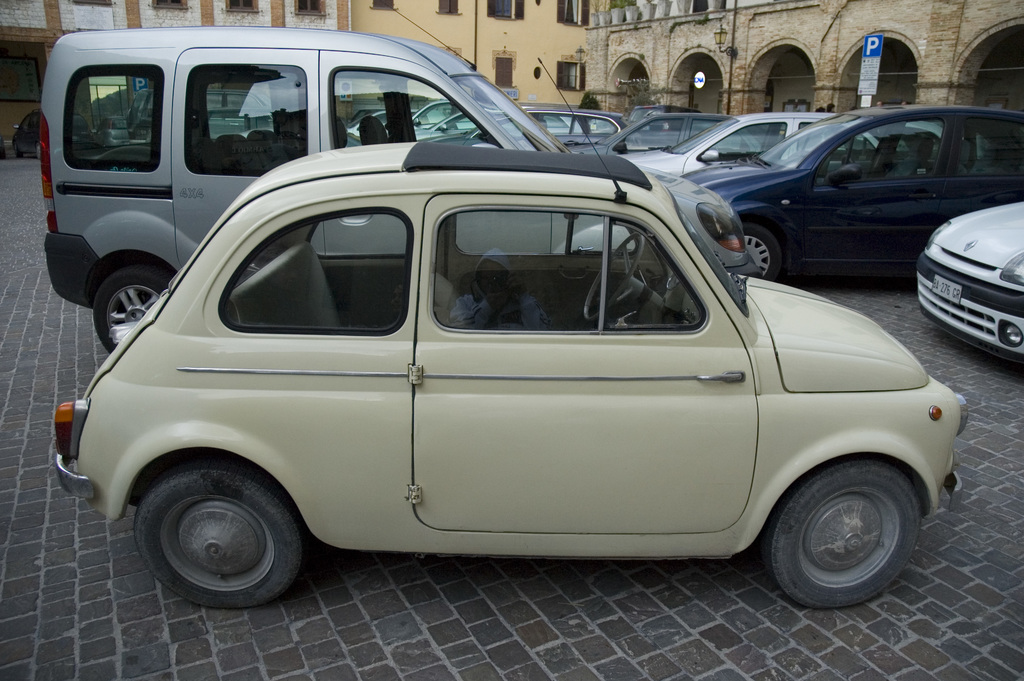cars: (45, 29, 741, 352), (681, 113, 1023, 289), (623, 115, 852, 187), (917, 205, 1022, 357), (625, 115, 733, 154), (523, 110, 626, 144)
